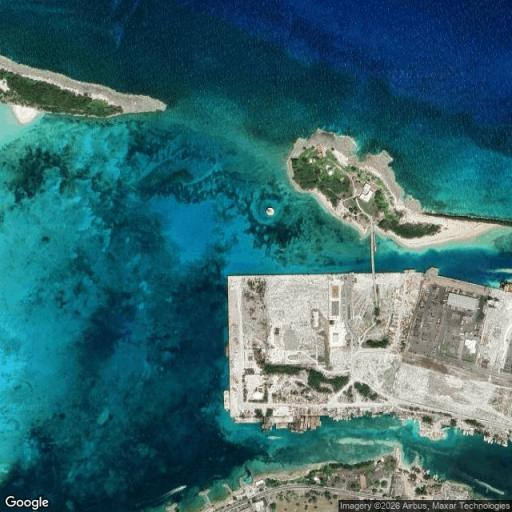ship: (473, 477, 505, 494), (161, 484, 187, 500), (223, 390, 230, 412), (267, 435, 283, 440)
